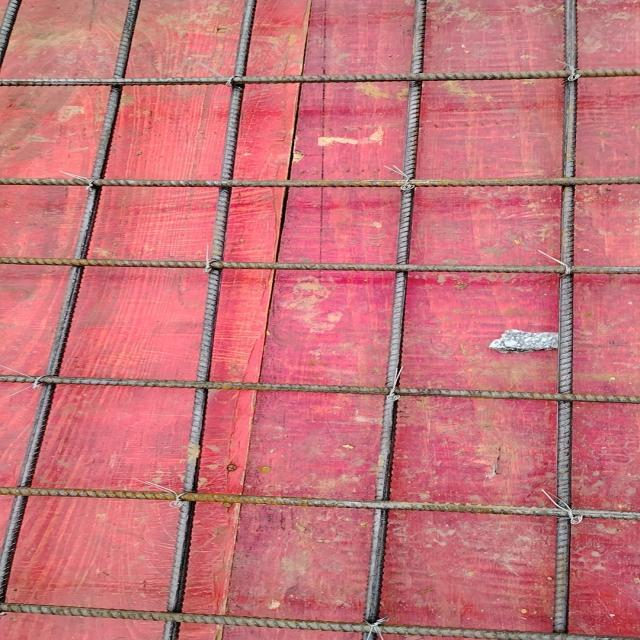ribbed bar: (1, 0, 144, 602), (162, 0, 256, 639), (363, 0, 430, 639), (1, 601, 640, 639), (1, 487, 640, 521), (1, 373, 640, 405), (553, 0, 578, 634), (1, 256, 640, 277), (1, 68, 640, 88), (1, 176, 640, 186), (2, 0, 24, 62)
